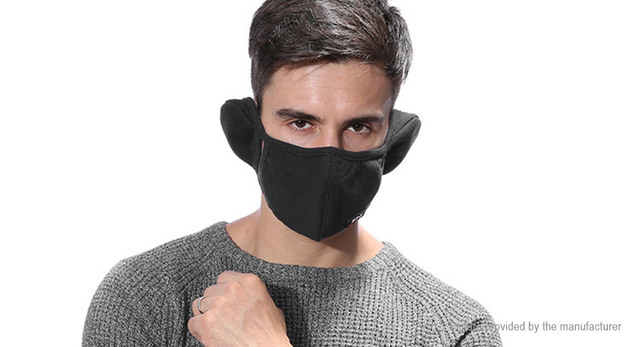mask: (265, 145, 386, 243)
